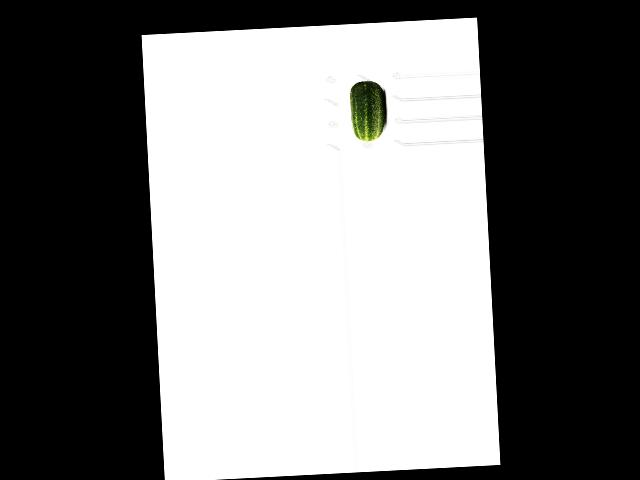cucumber: (349, 79, 387, 141)
